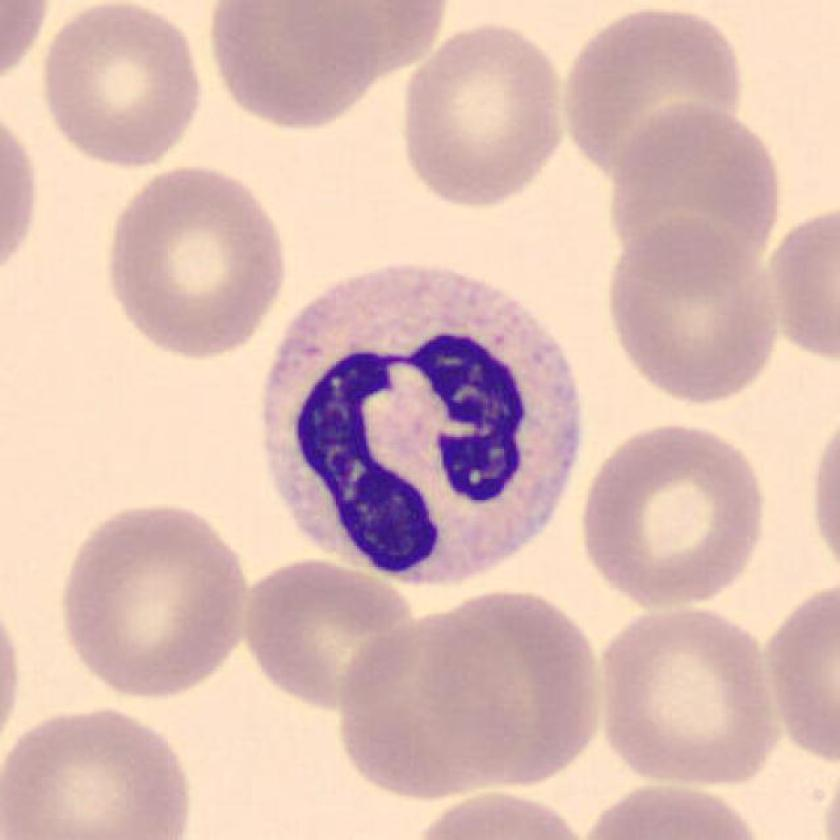neutrophil: (262, 266, 580, 581)
